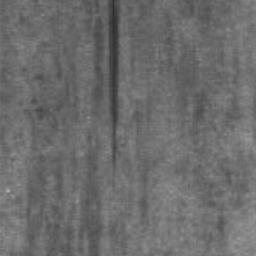Scratches: (109, 0, 120, 191)
